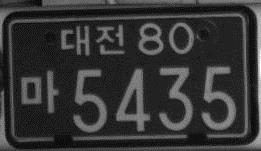0: (168, 21, 195, 55)
3: (156, 66, 193, 132)
4: (114, 67, 152, 133)
5: (200, 64, 237, 132), (71, 68, 108, 133)
8: (137, 21, 164, 57)
대전_O: (59, 22, 125, 57)
마: (19, 70, 59, 114)
